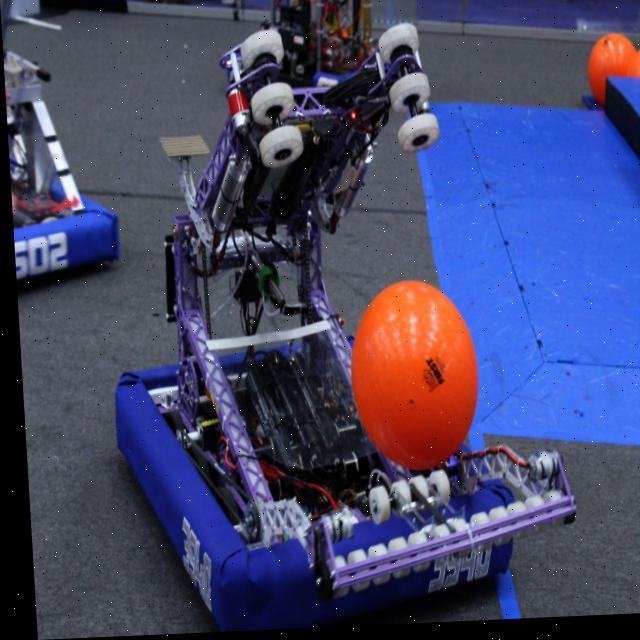robot: (91, 15, 579, 637), (4, 40, 118, 287), (258, 0, 399, 122)
